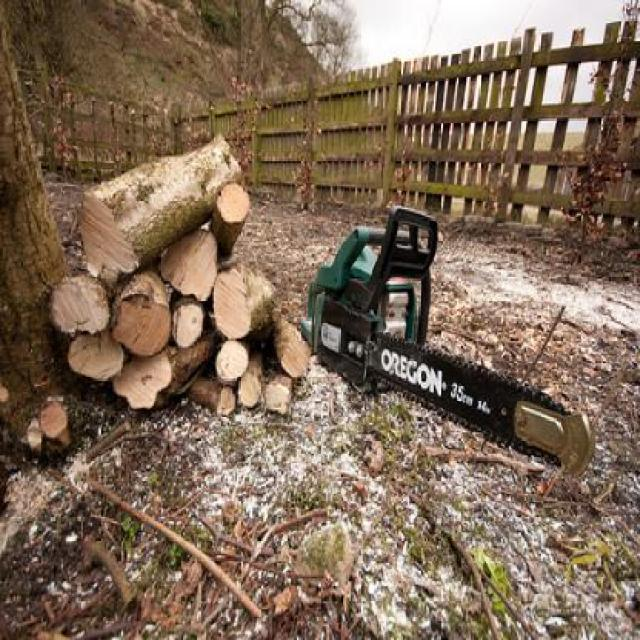Chainsaw: (292, 205, 596, 482)
